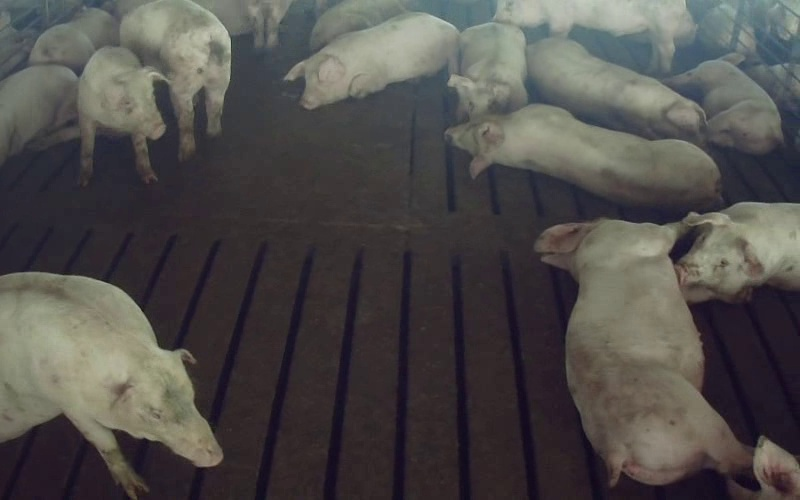pig: (535, 220, 750, 484), (445, 104, 720, 208), (527, 38, 705, 142), (120, 0, 230, 160), (285, 12, 458, 109), (494, 0, 695, 73), (675, 202, 799, 302), (79, 46, 166, 185), (664, 53, 782, 154), (0, 65, 78, 165), (448, 22, 527, 118), (28, 8, 118, 73)
